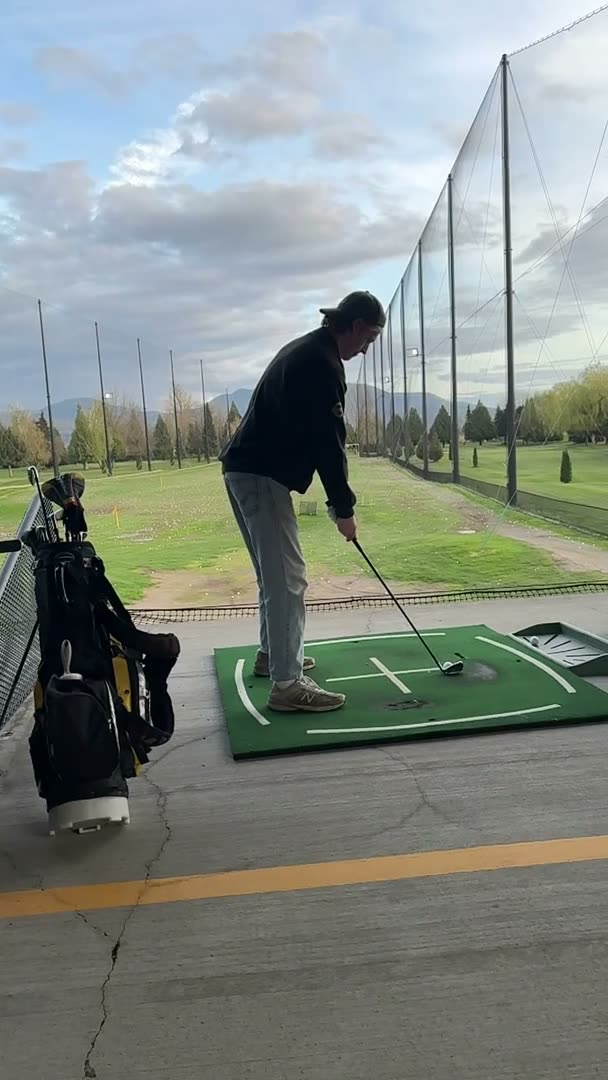Golf Ball: (438, 656, 459, 675)
